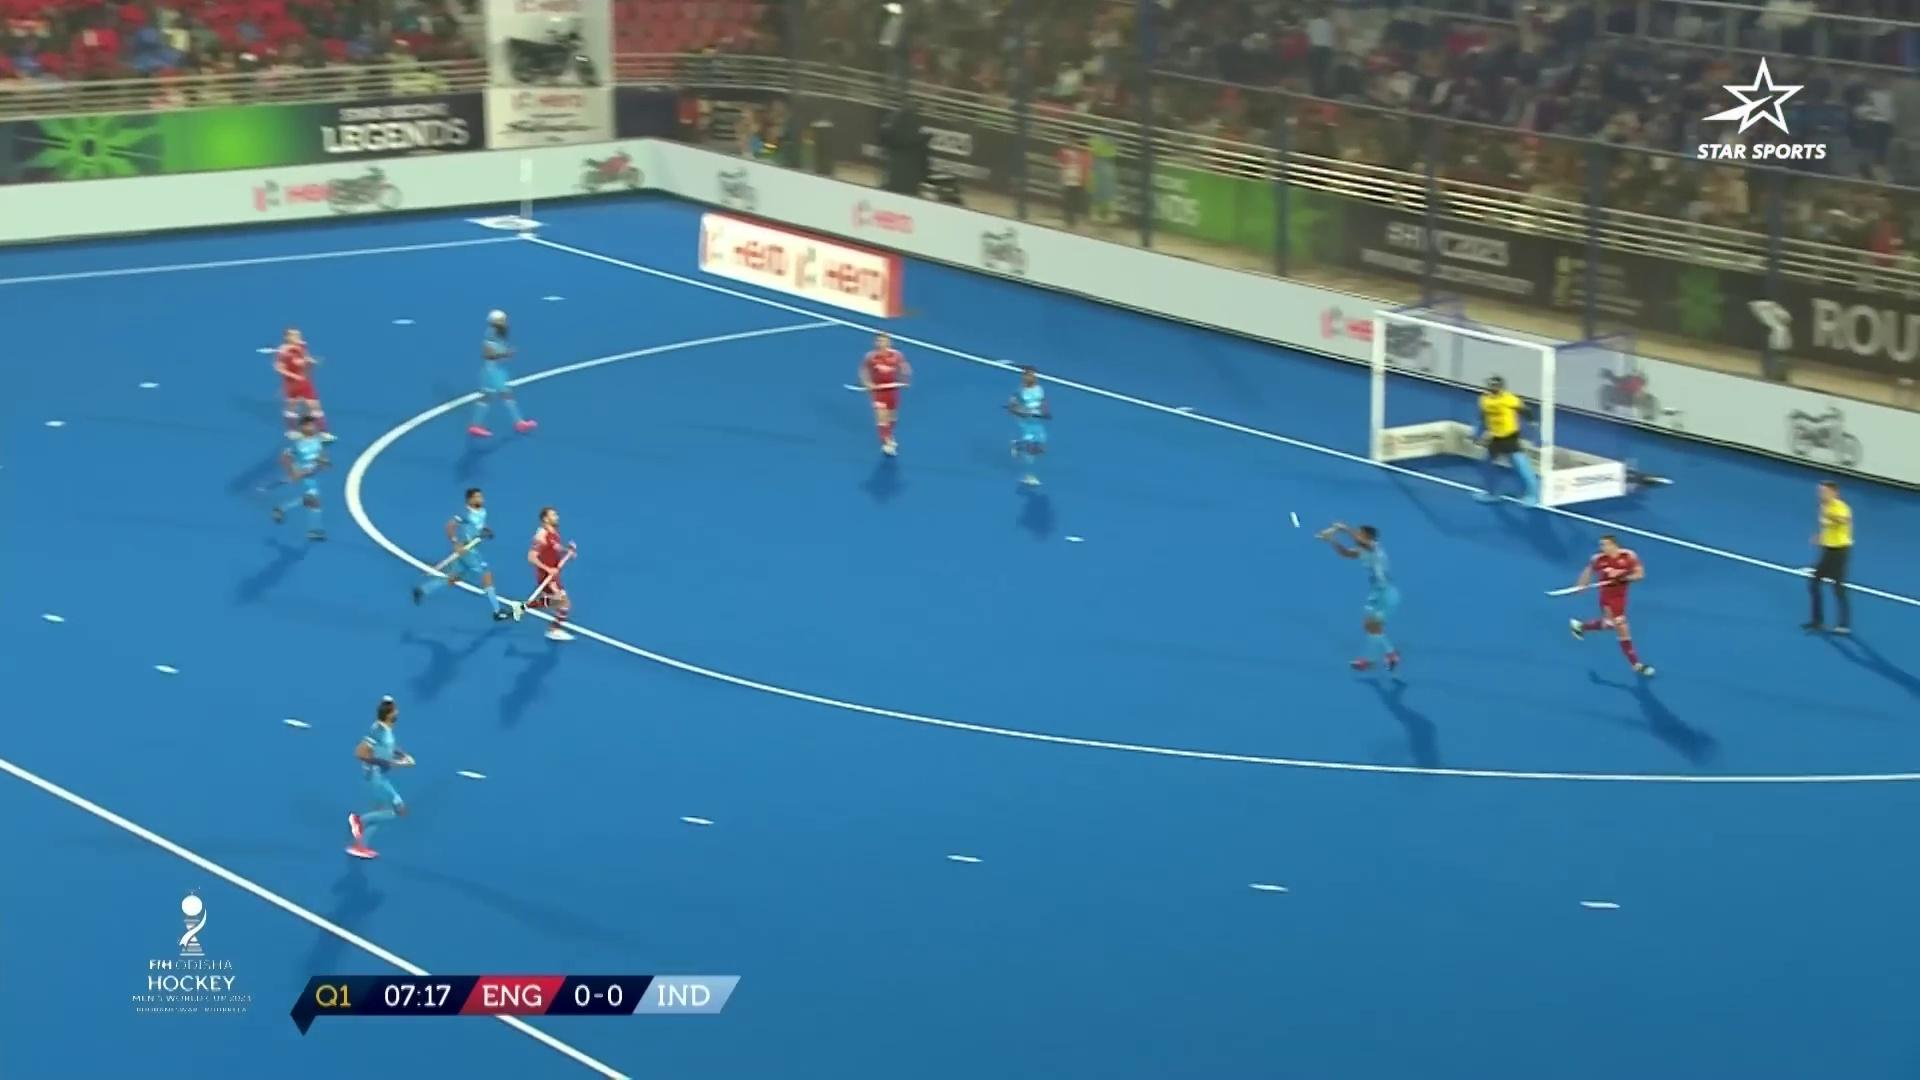ball: (1281, 491, 1317, 538)
